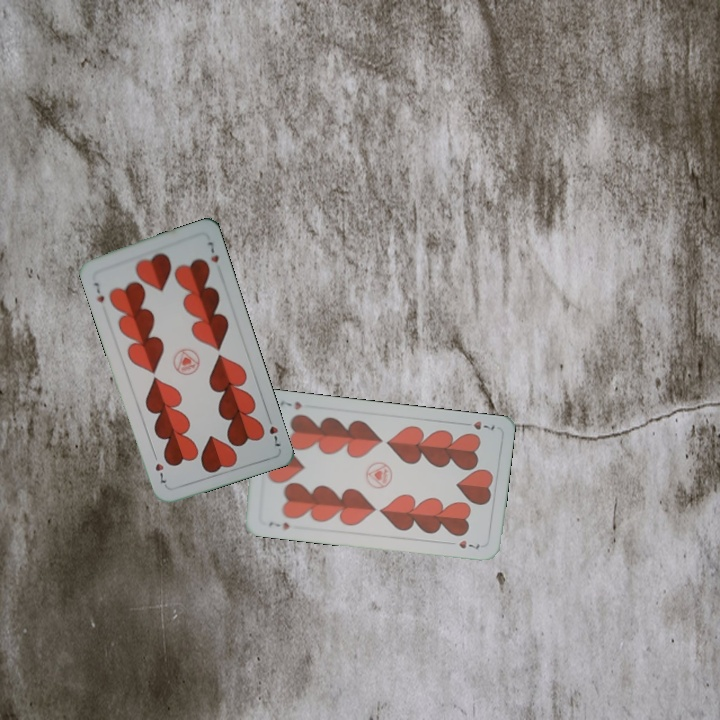H7: (263, 411, 284, 449), (458, 417, 497, 433), (90, 278, 107, 305), (265, 518, 292, 533)
